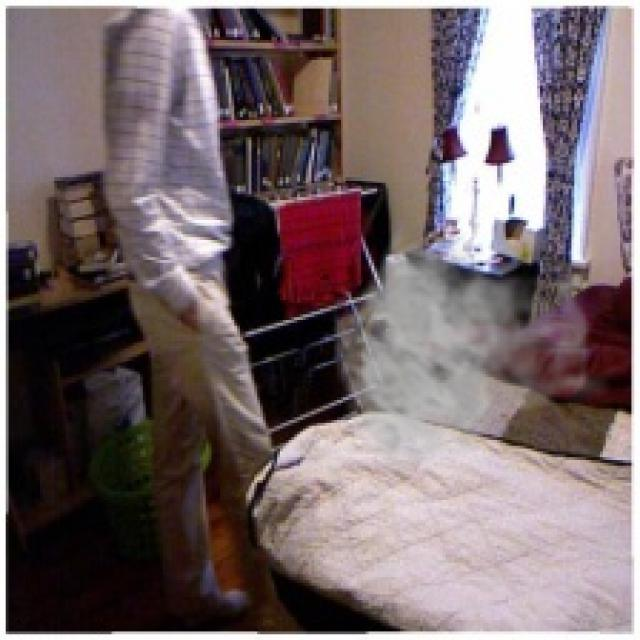smoke: (332, 220, 612, 477)
